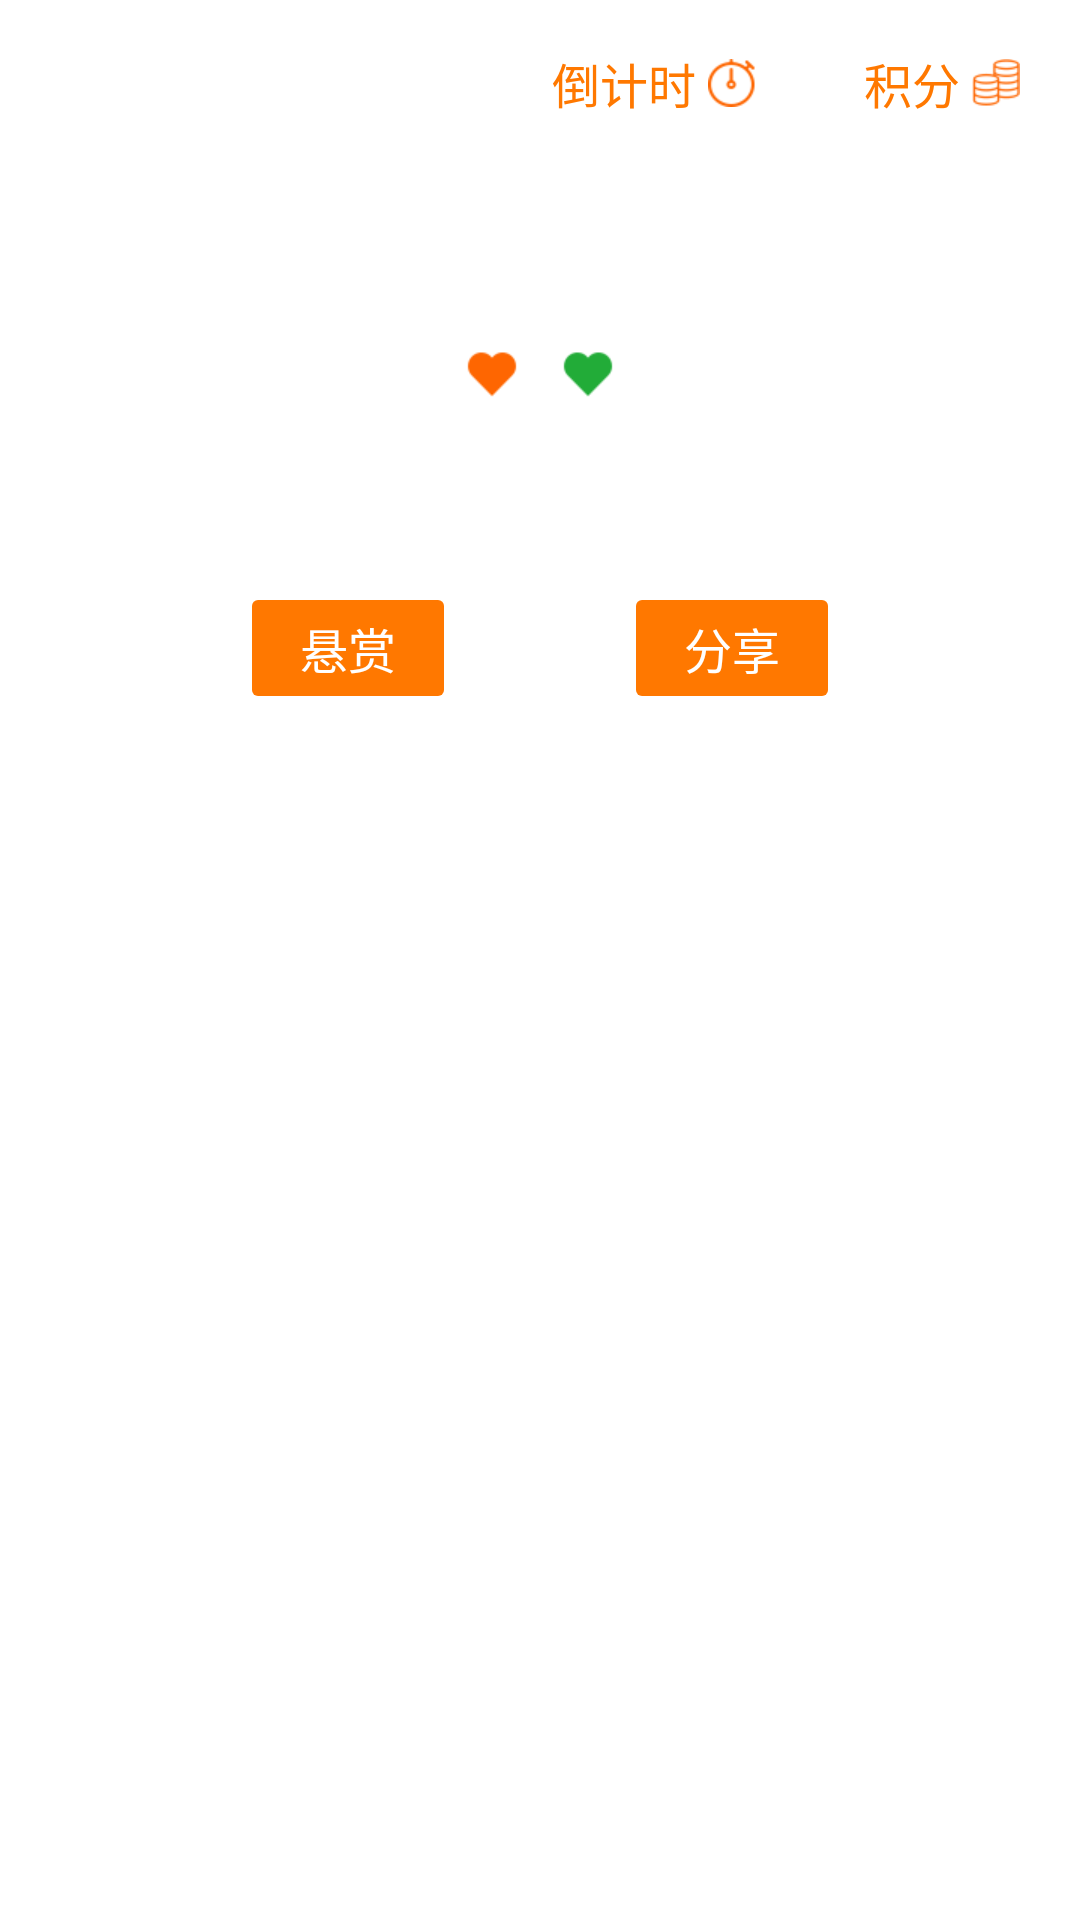

Point at icon controls on the screen. Image size 1080x1920, points as (x=x, y=y).
bonus: (x=996, y=82)
countdown: (x=731, y=83)
like: (x=492, y=374), (x=588, y=374)
